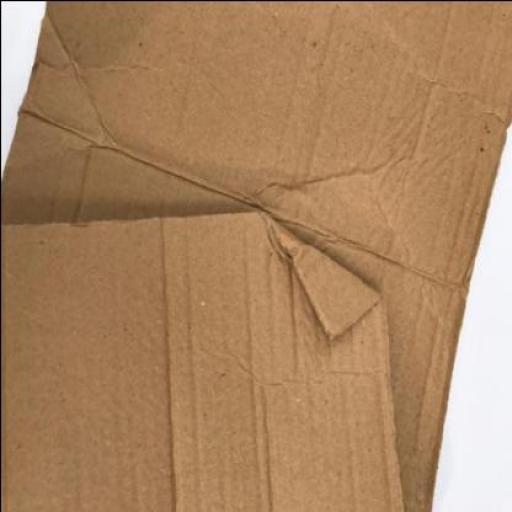cardboard: (0, 1, 511, 512), (1, 207, 406, 511)
